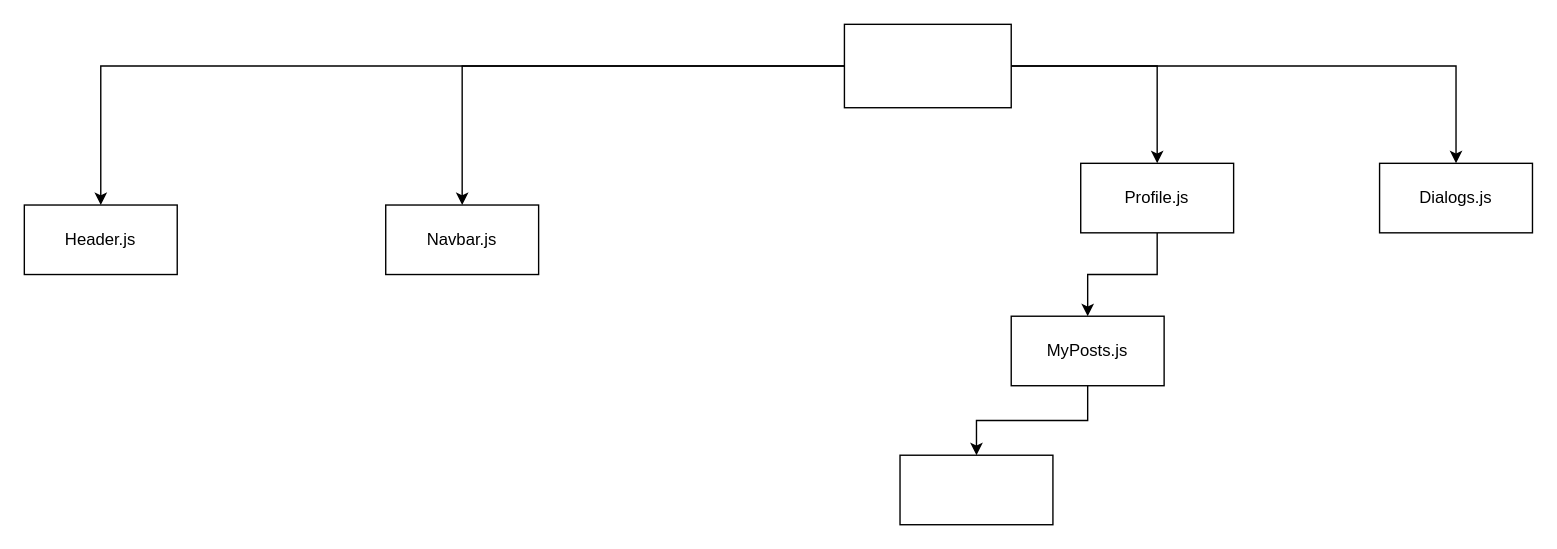
This 1557x549 diagram has some shape labels left out. The centre of each missing label's shape, as x and y in pixels:
App.js: the point at 927,65
Post.js: the point at 976,489
